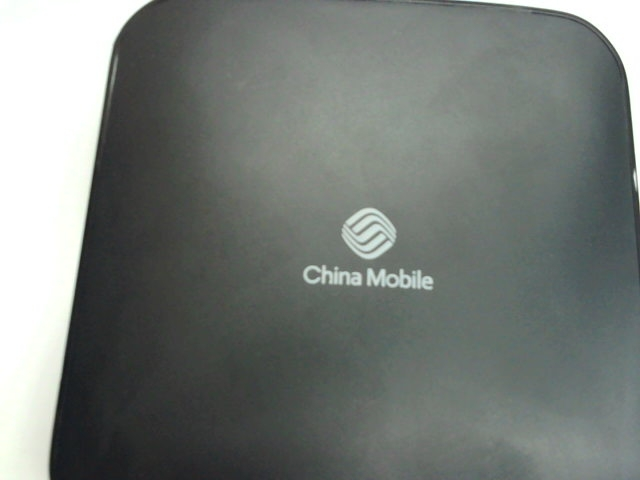AA_ChinaMobile: (300, 193, 445, 296)
